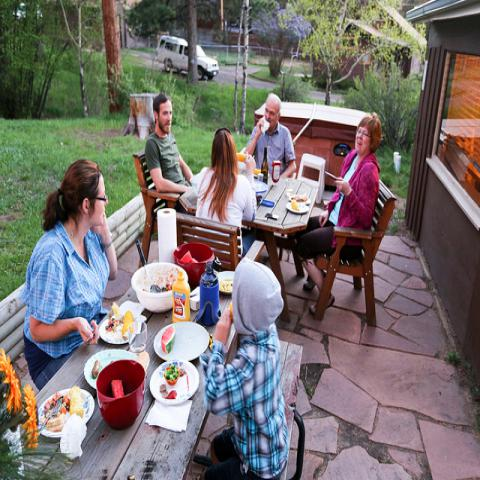truck: (156, 36, 220, 84)
